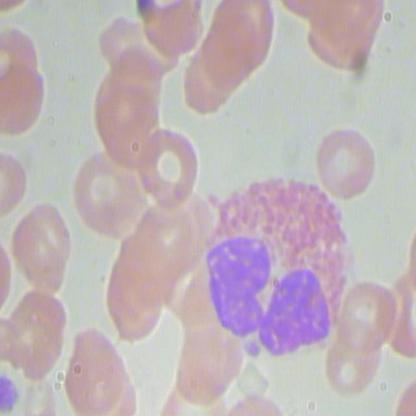RBC: (2, 285, 77, 383), (1, 283, 76, 381), (71, 148, 146, 237), (309, 126, 379, 204), (135, 129, 205, 207), (8, 201, 78, 279), (320, 316, 390, 394), (335, 276, 405, 354)
WBC: (201, 172, 358, 361)
